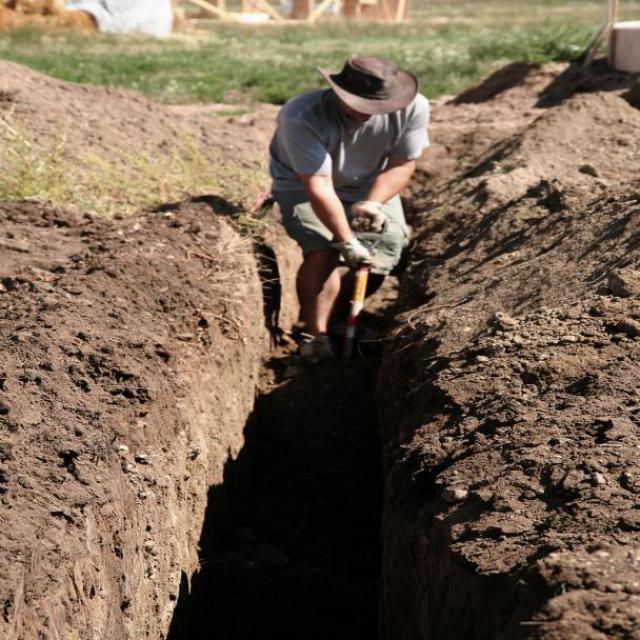gloves: (349, 201, 400, 232), (331, 236, 371, 268)
